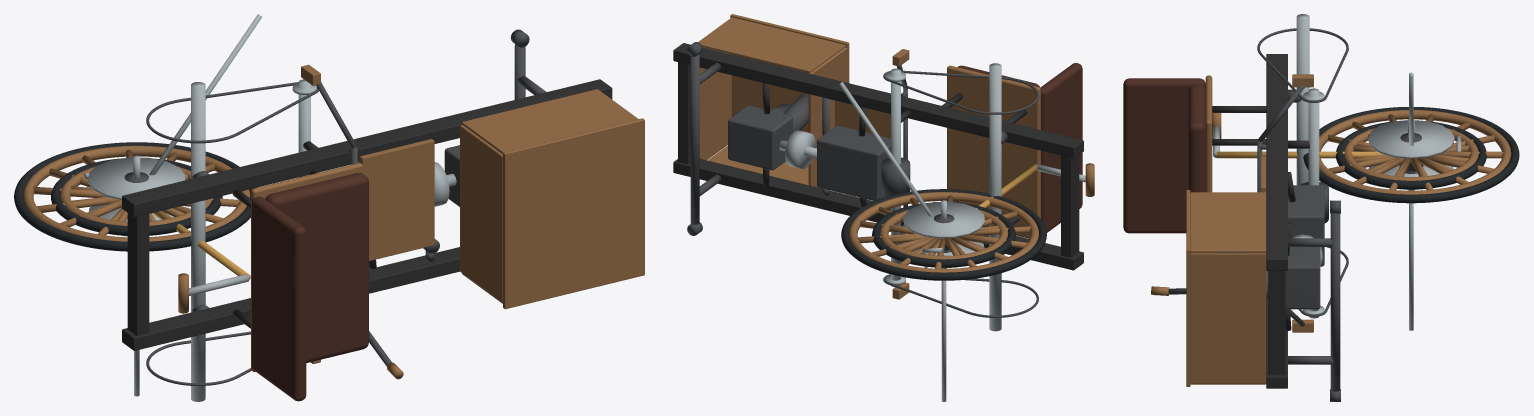
Rendered from car.glb.
3 renders of one model, left to right at view 1: azimuth 30°, elevation 25°; view 2: azimuth 150°, elevation 25°; view 3: azimuth 270°, elevation 25°, orthographic. The views are drawn at different scales.
Parts seen in each view (by area): view 1: chassis|142, chassis|136, chassis|137, chassis|1, chassis|138, chassis|139, chassis|141, chassis|0, chassis|11, rear_left|36, rear_left|37, chassis|2 (+12 smaller); view 2: chassis|135, chassis|1, chassis|0, chassis|141, chassis|107, chassis|137, chassis|100, rear_left|36, rear_left|37, chassis|11, chassis|143, chassis|142 (+18 smaller); view 3: chassis|137, chassis|143, chassis|141, chassis|1, rear_left|36, rear_left|37, rear_right|115, chassis|100, front_left|53, chassis|136, chassis|12, chassis|3 (+15 smaller).
Part boxes in pixels (x1,y1,x2,y2): chassis|142: (503, 118, 644, 309); chassis|136: (265, 173, 368, 362); chassis|137: (251, 196, 306, 401); chassis|1: (122, 79, 612, 217); chassis|138: (359, 139, 434, 260); chassis|139: (460, 125, 502, 302); chassis|141: (462, 89, 638, 153); chassis|0: (122, 247, 459, 350); chassis|11: (191, 82, 205, 401); rear_left|36: (14, 142, 257, 251); rear_left|37: (23, 145, 250, 241); chassis|2: (127, 213, 149, 335); chassis|135: (947, 65, 1040, 238); chassis|1: (673, 43, 1083, 158); chassis|0: (673, 159, 1083, 270); chassis|141: (698, 17, 845, 72); chassis|107: (817, 125, 890, 200); chassis|137: (1040, 63, 1082, 232); chassis|100: (728, 105, 792, 170); rear_left|36: (841, 189, 1046, 280); rear_left|37: (849, 192, 1038, 272); chassis|11: (989, 63, 1001, 331); chassis|143: (699, 47, 731, 160); chassis|142: (730, 14, 849, 132); chassis|137: (1123, 78, 1205, 233); chassis|143: (1190, 253, 1266, 383); chassis|141: (1190, 192, 1266, 252); chassis|1: (1266, 54, 1287, 270); rear_left|36: (1303, 107, 1519, 203); rear_left|37: (1319, 110, 1511, 194); rear_right|115: (1368, 120, 1454, 158); chassis|100: (1285, 247, 1320, 309); front_left|53: (1335, 121, 1486, 189); chassis|136: (1188, 84, 1205, 192); chassis|12: (1330, 213, 1340, 391); chassis|3: (1268, 271, 1285, 375).
Bounding box in the file's own units: 2.35 × 1.6 × 1.83.
